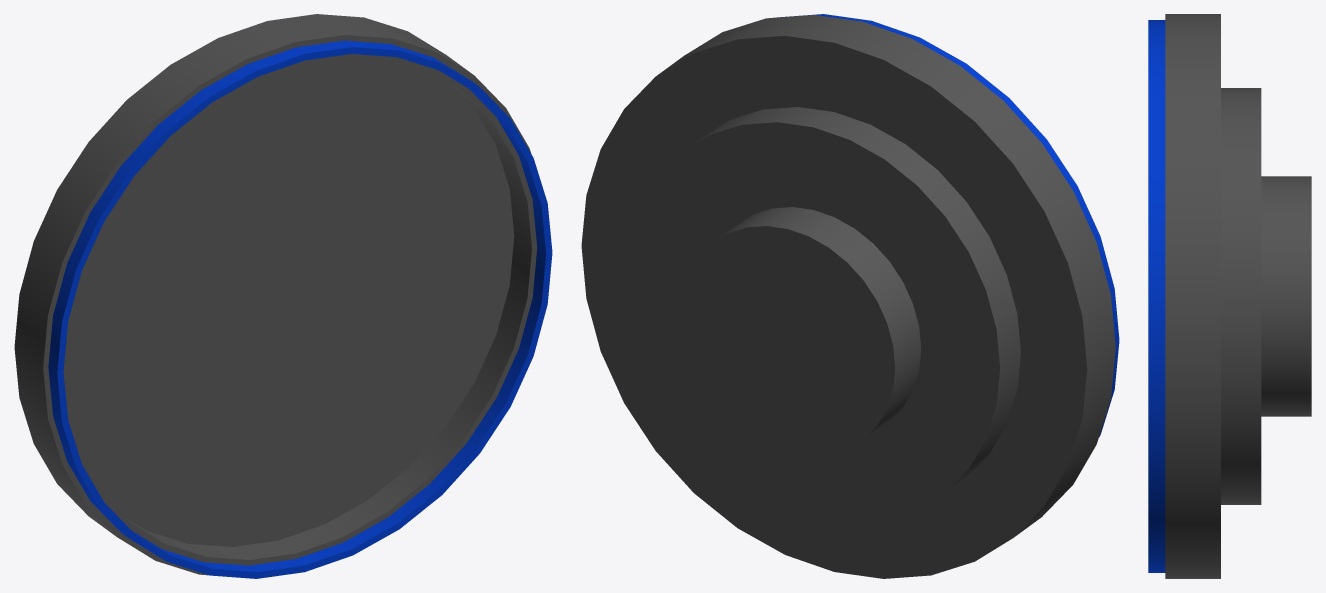
The model's file is Island.fbx.
3 renders of one model, left to right at view 1: azimuth 30°, elevation 25°; view 2: azimuth 150°, elevation 25°; view 3: azimuth 270°, elevation 25°, orthographic. The views are drawn at different scales.
Visible parts, largest first — view 1: Island; view 2: Island; view 3: Island.
Boxes of the visible parts, x1=… form: Island: x1=14, y1=14, x2=552, y2=578; Island: x1=581, y1=14, x2=1119, y2=578; Island: x1=1148, y1=14, x2=1311, y2=578.
Size of the model in its own units: 22.24 by 22.24 by 6.42.
